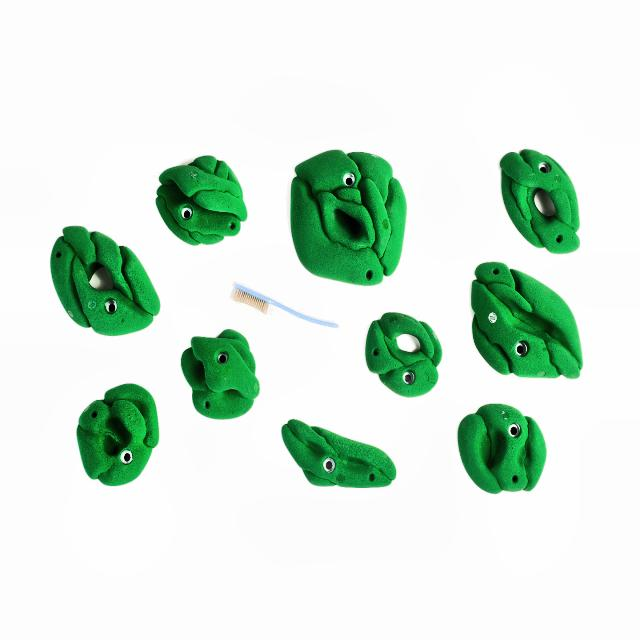Hold: (288, 150, 405, 290), (469, 260, 589, 387), (36, 222, 164, 336), (493, 142, 582, 254), (151, 144, 243, 246), (277, 417, 398, 491), (76, 380, 160, 484), (456, 407, 544, 493), (180, 326, 262, 418), (366, 316, 446, 396)
